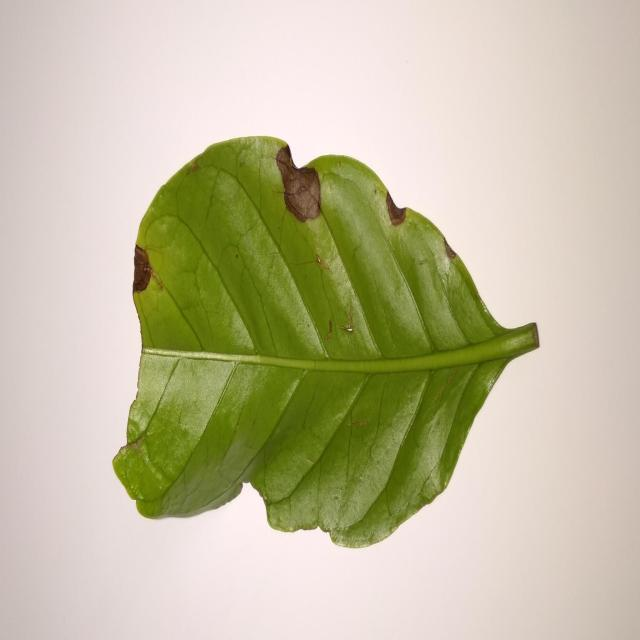Enfermedad-Antracnosis: (111, 136, 541, 552)
